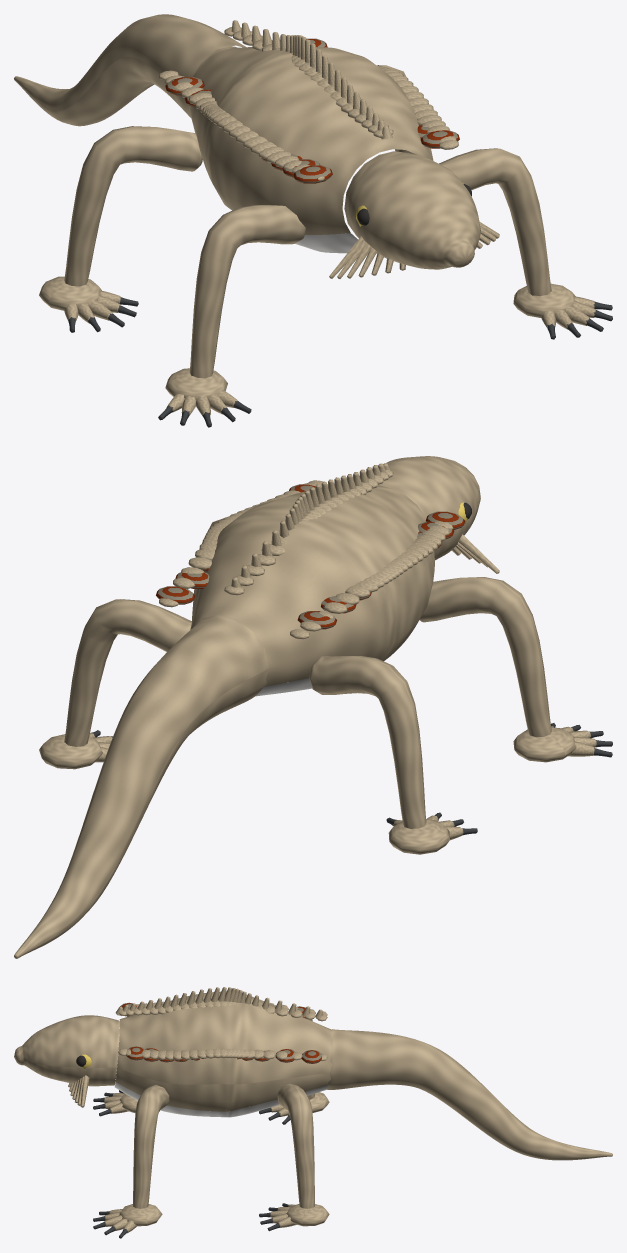
The model's file is birds-and-reptiles-hd-bearded-dragon-5d81e295__28102.glb.
3 renders of one model, top to bottom at view 1: azimuth 30°, elevation 25°; view 2: azimuth 150°, elevation 25°; view 3: azimuth 270°, elevation 25°, orthographic. The views are drawn at different scales.
Parts seen in each view (by area): view 1: bearded-dragon; view 2: bearded-dragon; view 3: bearded-dragon.
Boxes of the visible parts, box(x1,y1,x2,y2) form: bearded-dragon: box(14, 14, 612, 427); bearded-dragon: box(14, 456, 612, 958); bearded-dragon: box(14, 987, 612, 1238).
Bounding box in the file's own units: 0.37 × 0.2101 × 0.6368.
6 materials, 4 textured.
